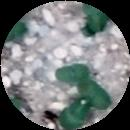Basil: (59, 98, 96, 130), (71, 81, 113, 108), (54, 63, 94, 81)
